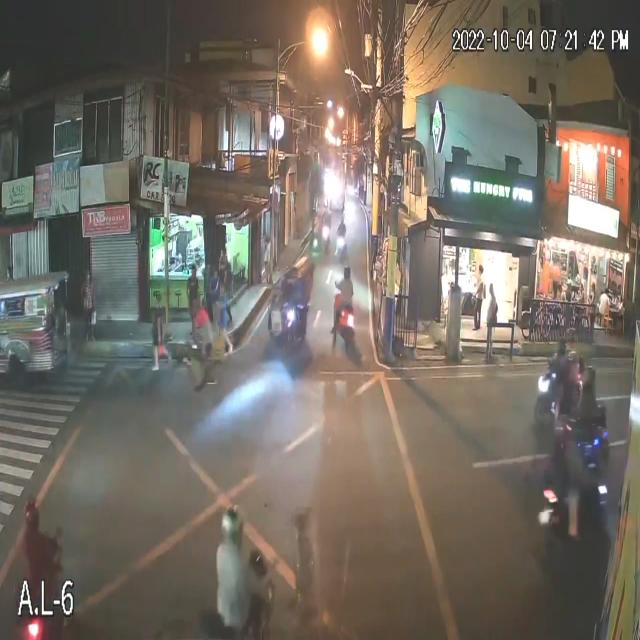Full-Faced: (220, 503, 247, 547), (24, 496, 41, 528), (554, 336, 567, 356), (343, 264, 352, 277)
